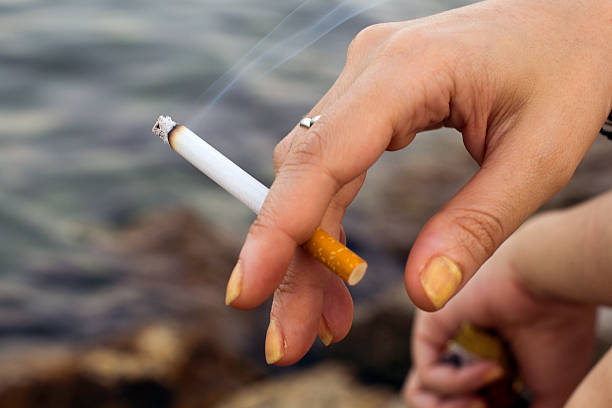cigarette: (150, 114, 369, 289)
